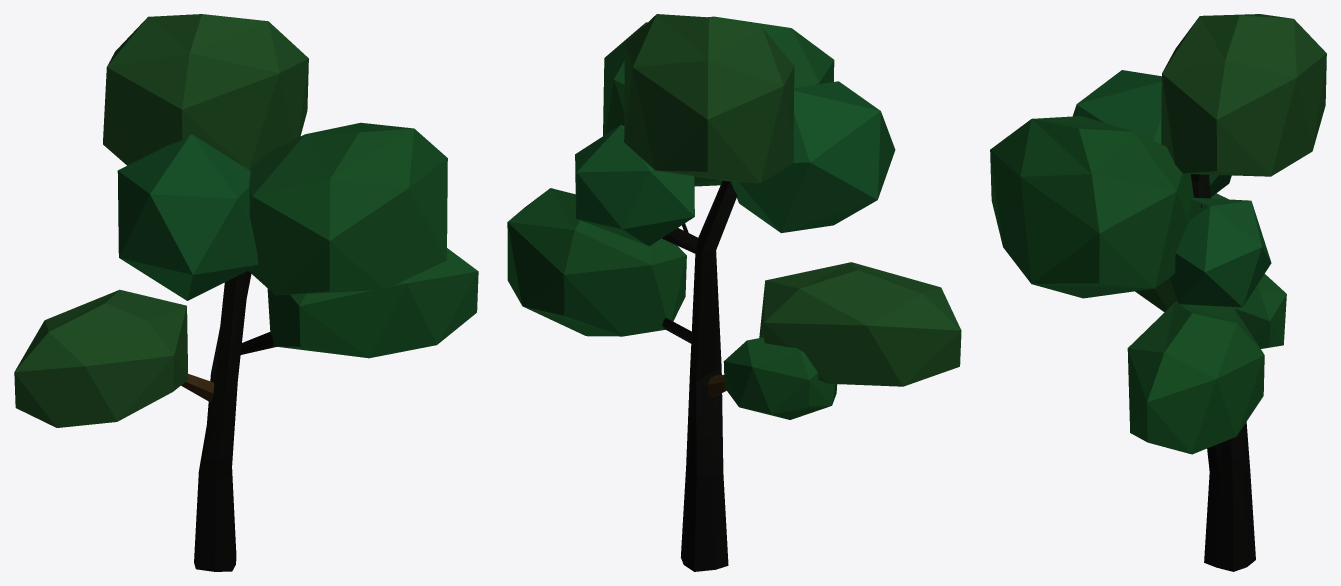
File: tree2.FBX
3 views of the same model, side by side, from view 1: azimuth 30°, elevation 25°; view 2: azimuth 150°, elevation 25°; view 3: azimuth 270°, elevation 25° (orthographic).
Visible parts, largest first — view 1: tree2; view 2: tree2; view 3: tree2.
Boxes of the visible parts, x1=… form: tree2: x1=14, y1=14, x2=478, y2=571; tree2: x1=507, y1=14, x2=961, y2=571; tree2: x1=990, y1=14, x2=1326, y2=571.
Bounding box in the file's own units: 393 × 458 × 258.
